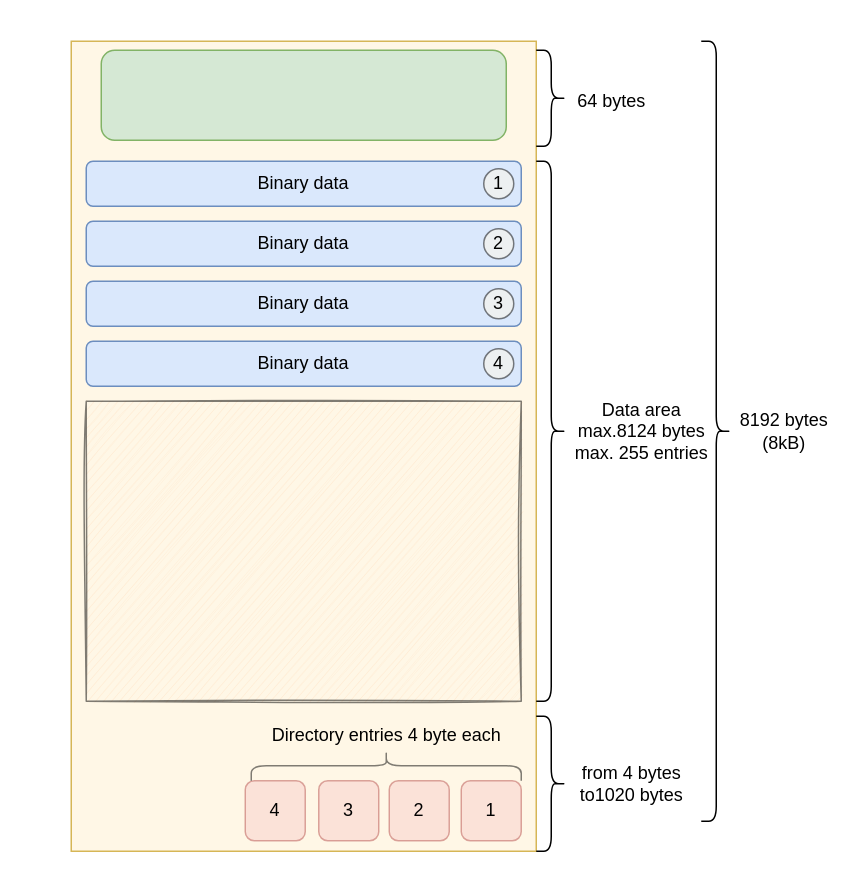
Image size: 861x891. Some labels were removed from this diagram. Here are the shapes that lost their labels. From the top down, the centre of each, then its label:
At (x=303, y=94): "Page Header".
At (x=303, y=550): "Free".
